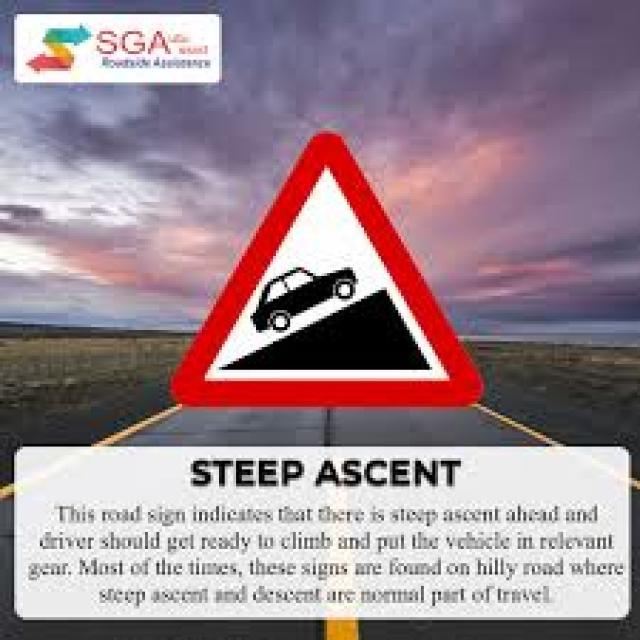steep ascent: (167, 129, 486, 411)
